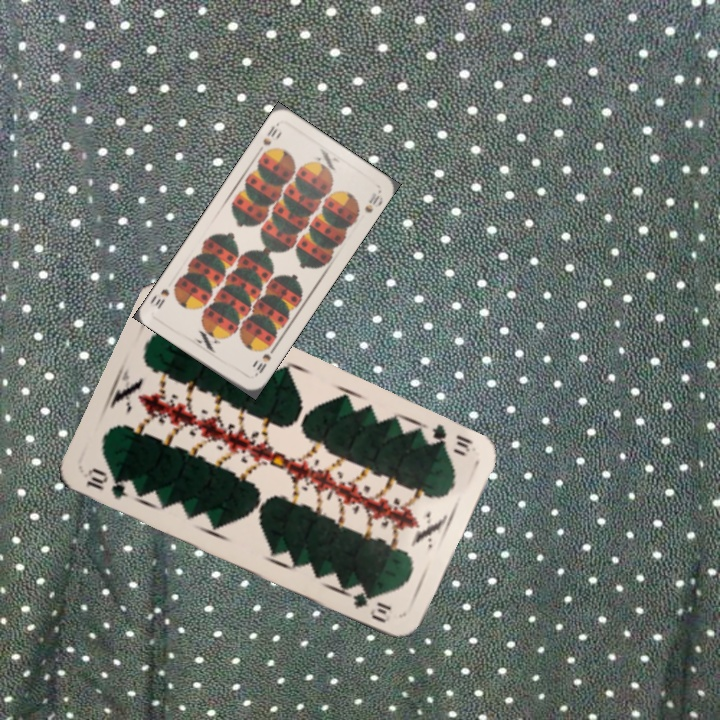G10: (418, 420, 476, 459), (79, 464, 131, 502)
S10: (258, 119, 281, 158), (250, 349, 274, 380)
